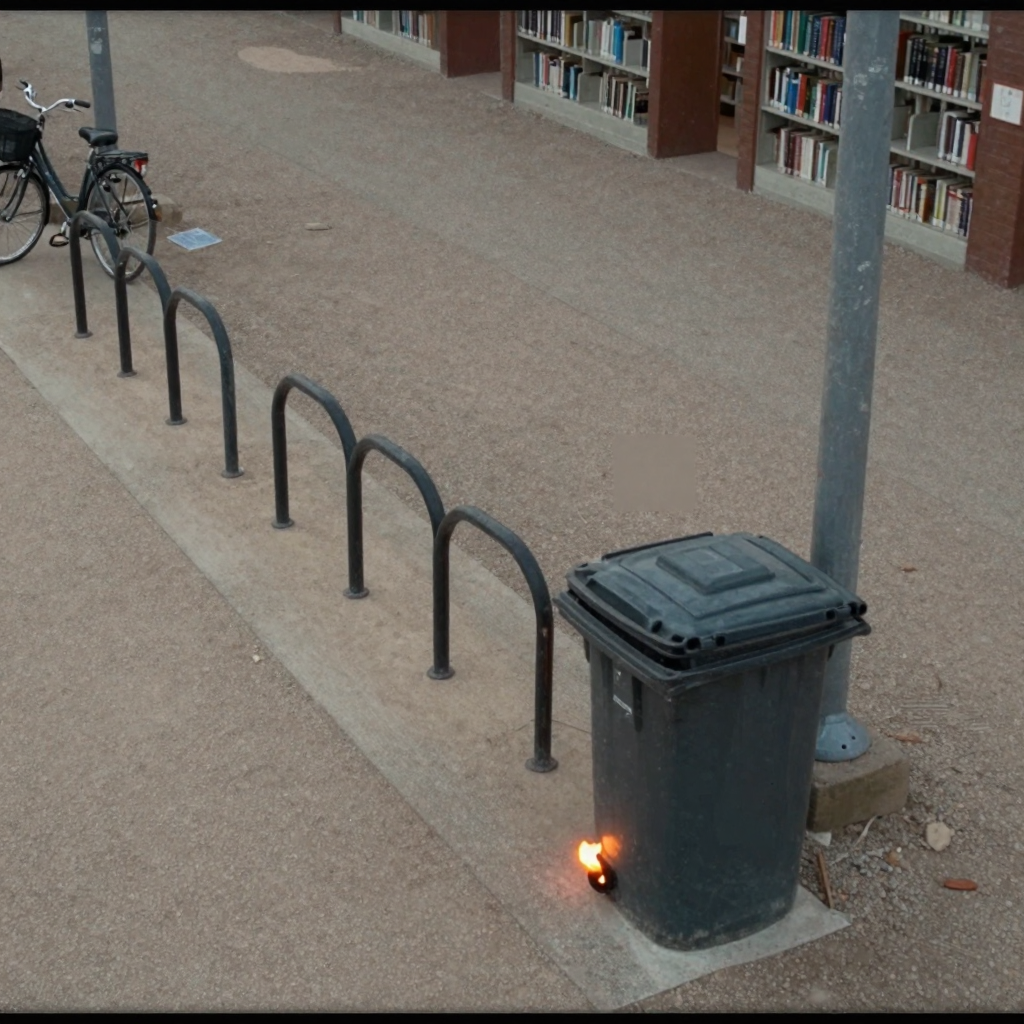Arson: (578, 842, 612, 896)
